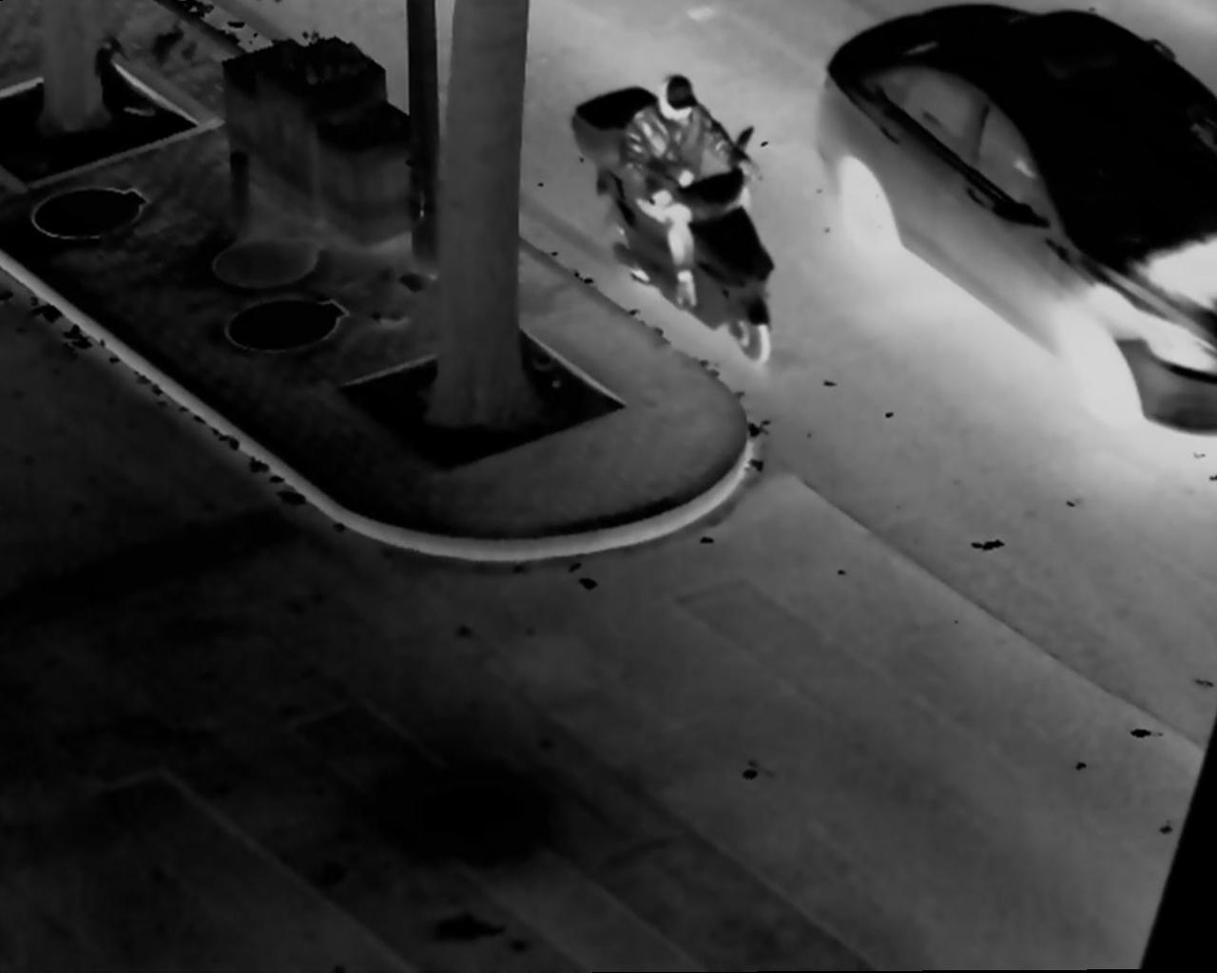person: (630, 70, 759, 308)
